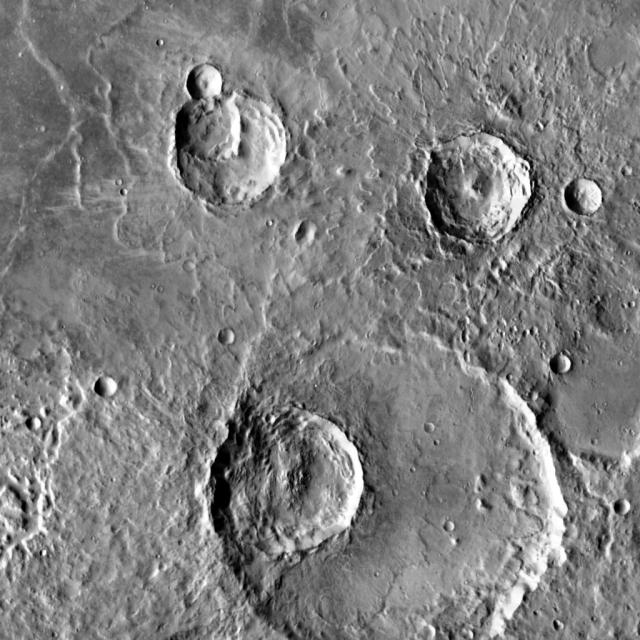crater: (226, 336, 565, 640), (212, 410, 366, 564), (539, 332, 640, 468), (176, 95, 290, 207), (426, 136, 536, 245), (180, 95, 248, 162), (593, 30, 640, 82), (570, 182, 608, 220), (192, 68, 228, 104), (298, 226, 322, 250), (554, 357, 574, 377), (98, 380, 118, 400), (222, 333, 238, 349), (619, 503, 635, 519), (30, 420, 45, 434), (186, 263, 198, 275), (500, 262, 511, 274), (430, 426, 441, 437), (448, 526, 459, 536), (416, 262, 426, 273), (627, 170, 637, 180), (558, 623, 568, 633), (271, 419, 280, 429), (625, 295, 633, 303), (534, 329, 542, 337), (125, 190, 133, 198), (175, 534, 182, 542), (588, 434, 596, 441), (120, 181, 128, 188), (153, 33, 160, 41), (155, 281, 162, 288), (37, 546, 44, 552), (264, 215, 270, 222), (618, 556, 624, 562), (319, 8, 325, 14)
